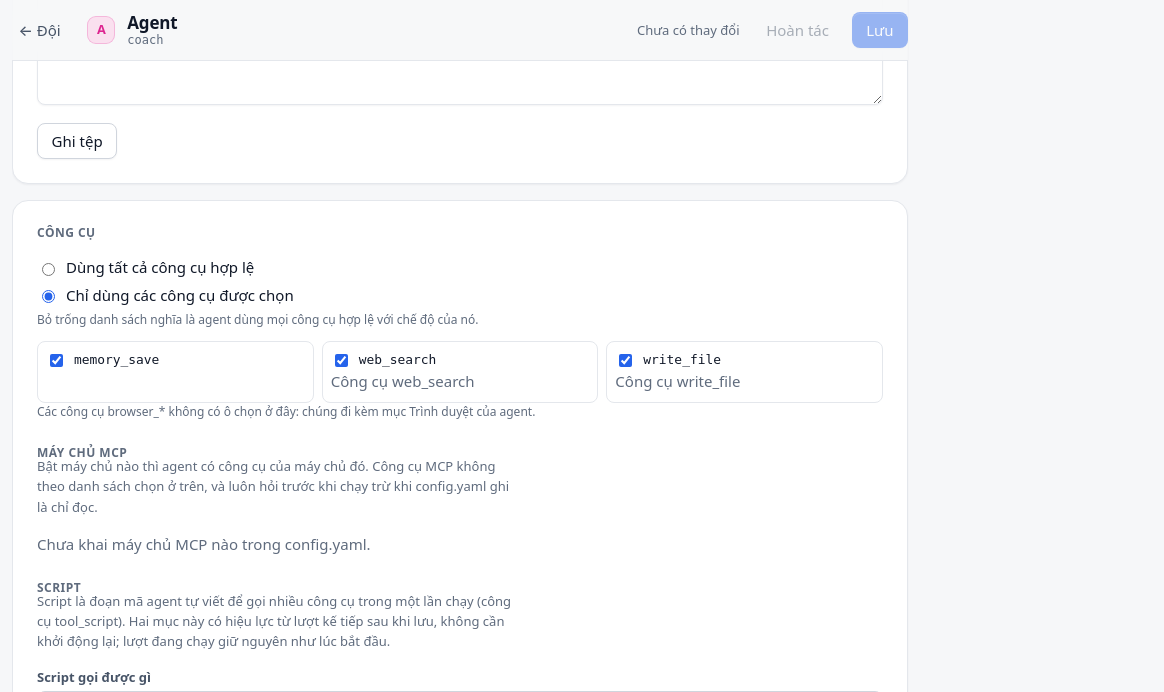
it: a row unticked and ticked again › leaves nothing to save: write_file is back where the file's list has it
(page scrolled)
Step 1. Click the checkbox labelled "write_file" → [626, 360], box [619,354,632,367]
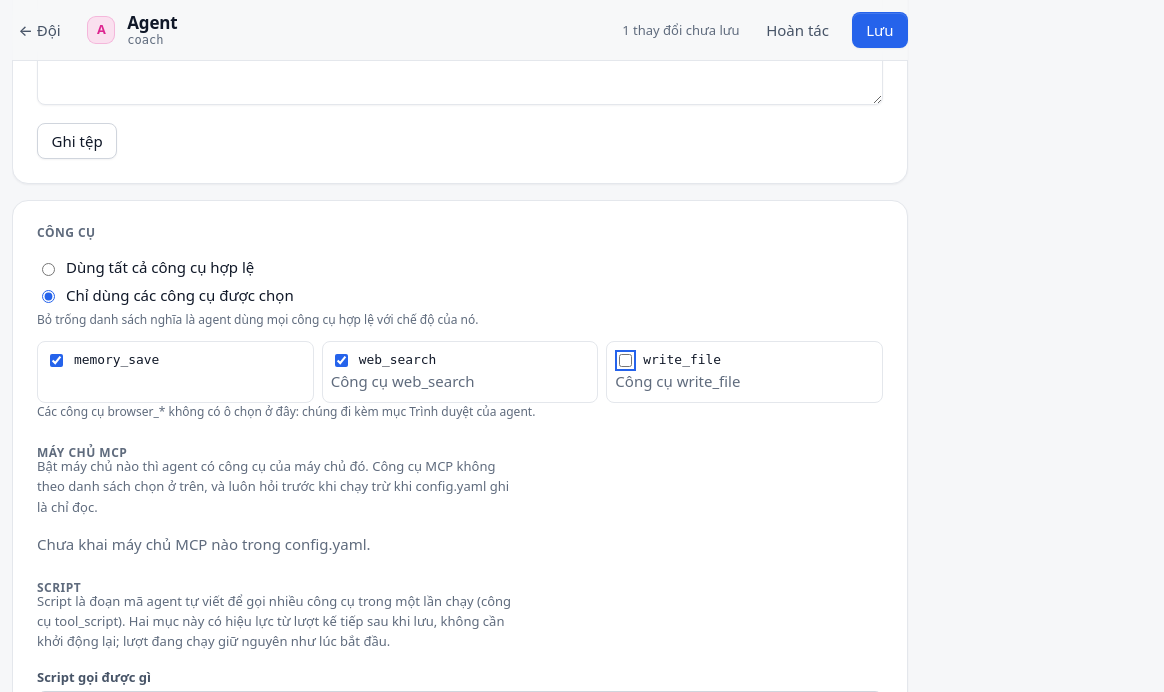
Step 2. Click the checkbox labelled "write_file" → [626, 360], box [619,354,632,367]
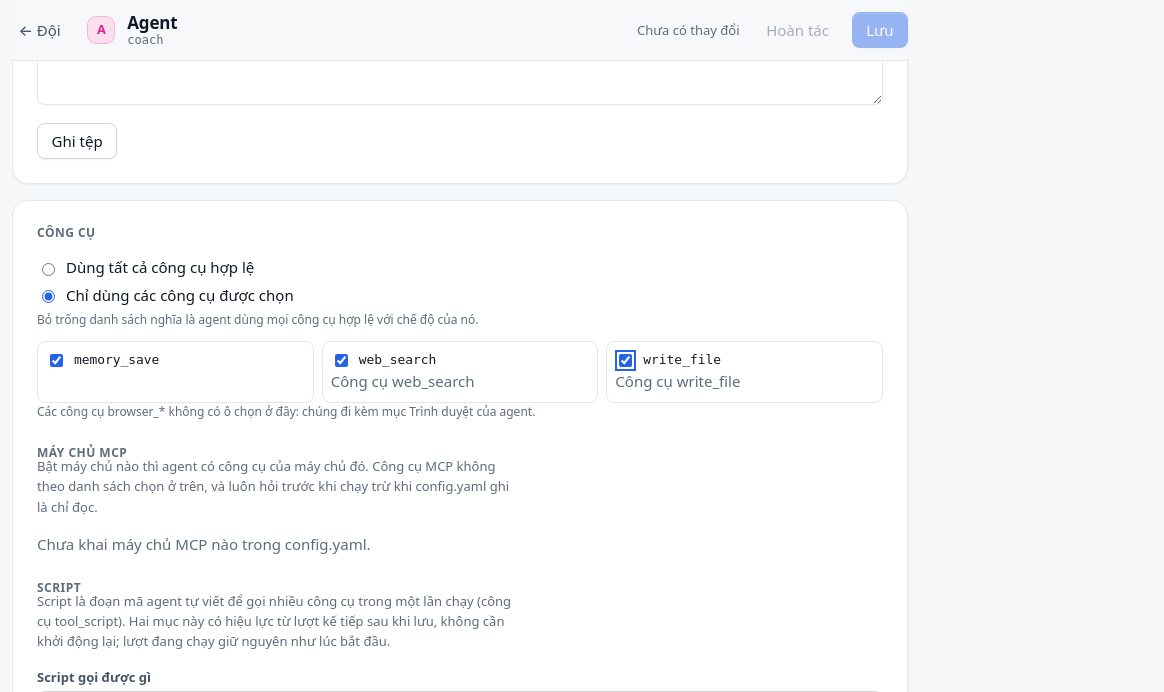
Expected: the text "Chưa có thay đổi" is shown, [637,20,740,40]
Expected: the button "Lưu" is disabled, [852,12,908,48]
